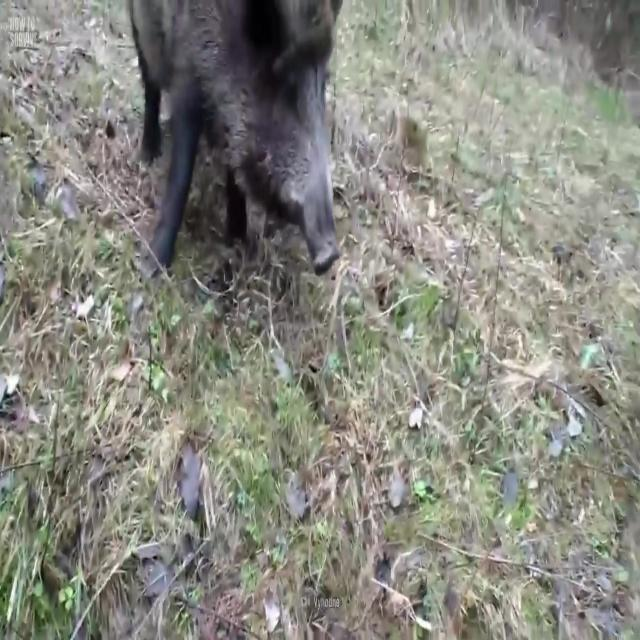pig: (121, 0, 383, 272)
